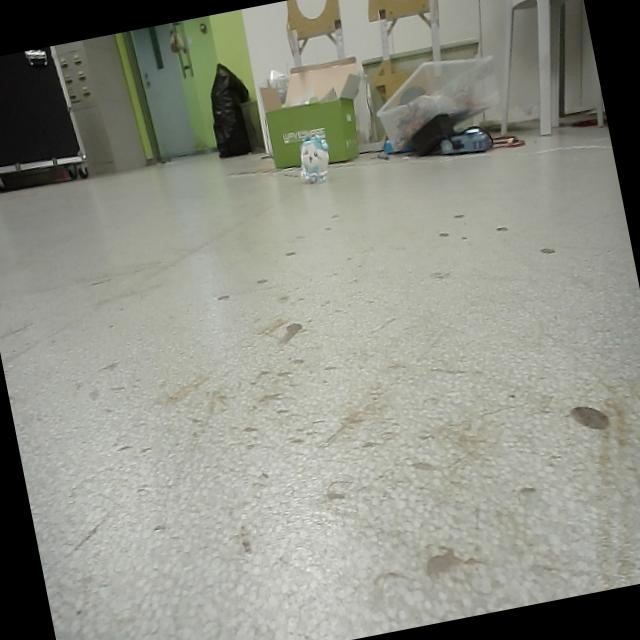xiaoba: (292, 124, 334, 188)
